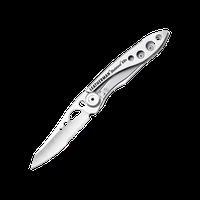knife: (23, 26, 171, 176)
